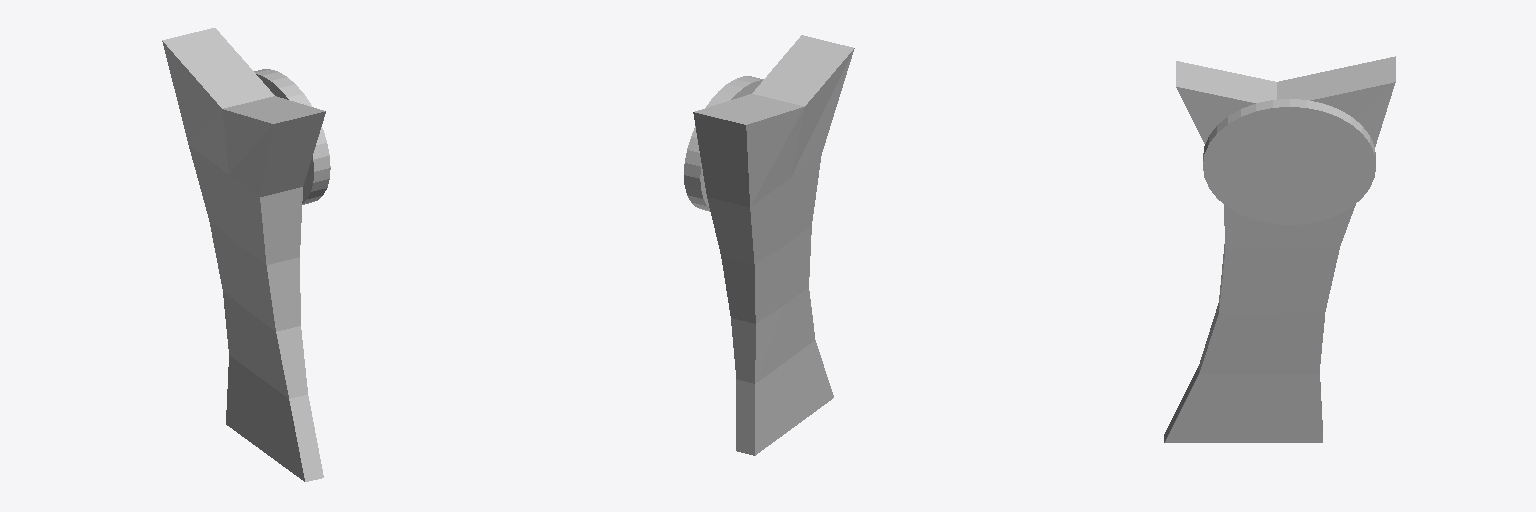
Rendered from StreetSign.obj.
The picture shows the model from 3 angles: view 1: azimuth 30°, elevation 25°; view 2: azimuth 150°, elevation 25°; view 3: azimuth 270°, elevation 25°; orthographic projection.
Visible parts, largest first — view 1: Cube, Circle; view 2: Cube, Circle; view 3: Cube, Circle.
Boxes of the visible parts, box(x1,y1,x2,y2) form: Cube: box(162, 28, 325, 481); Circle: box(254, 69, 330, 204); Cube: box(693, 35, 854, 455); Circle: box(684, 76, 763, 211); Cube: box(1164, 56, 1395, 442); Circle: box(1203, 99, 1375, 224).
Bounding box in the file's own units: 2.5 × 12.08 × 6.95.